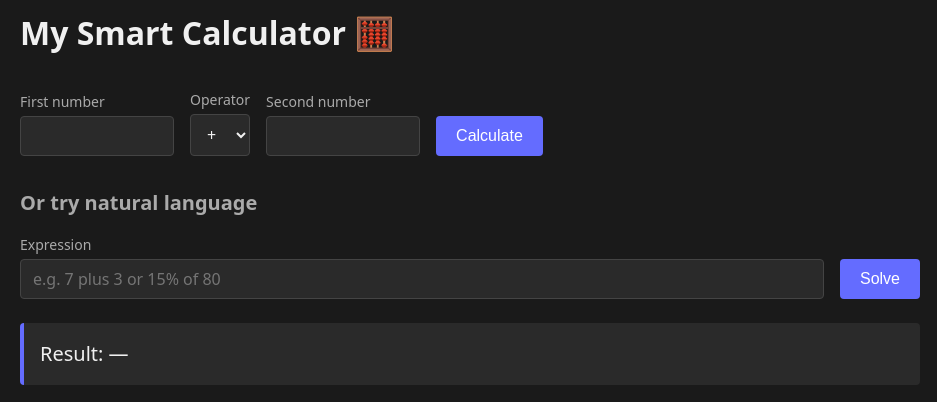
Test case: App › [CALC-002] shows the result returned by the API
Type "7" into the number field labelled "First number".
click(97, 136); type("7")  # box [20, 116, 174, 156]
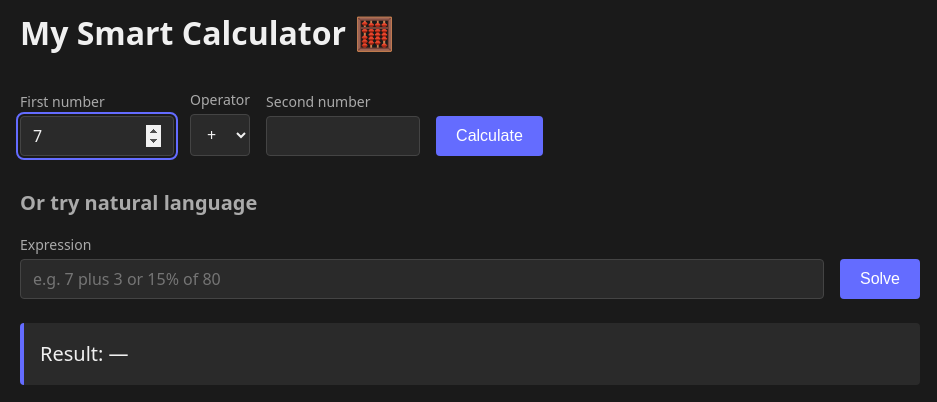
Type "3" into the number field labelled "Second number".
click(343, 136); type("3")  # box [266, 116, 420, 156]
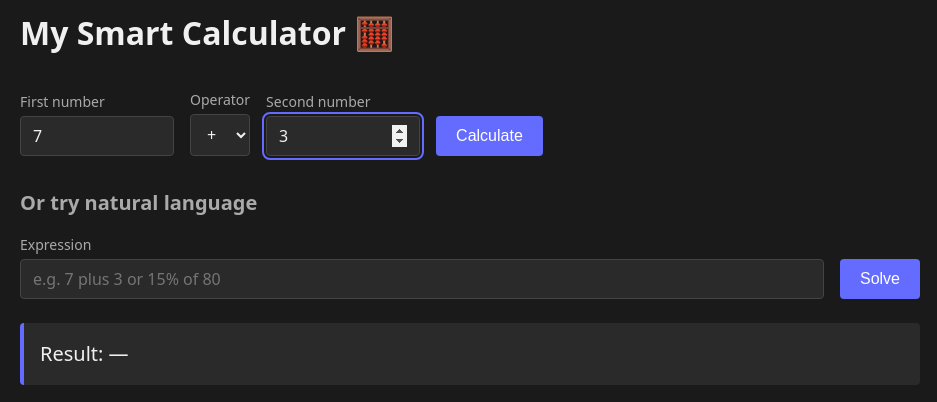
Click the button "Calculate".
click(489, 136)  # box [436, 116, 543, 156]
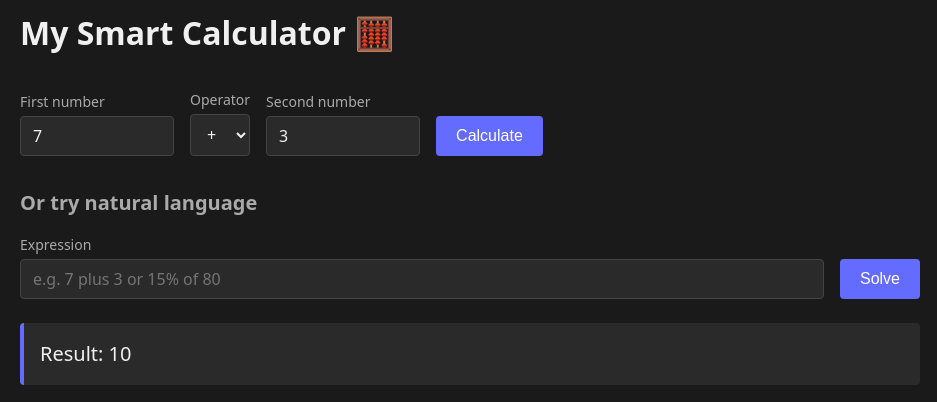
Expected: the text "Result: 10" is shown, [20, 323, 920, 385]
